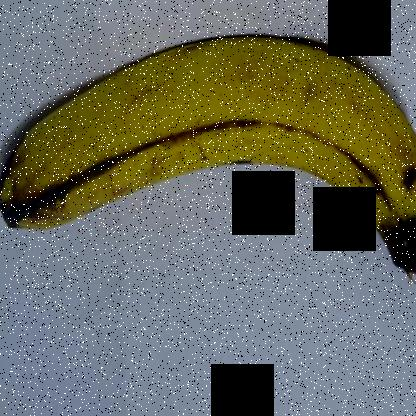ripe: (0, 22, 415, 294)
